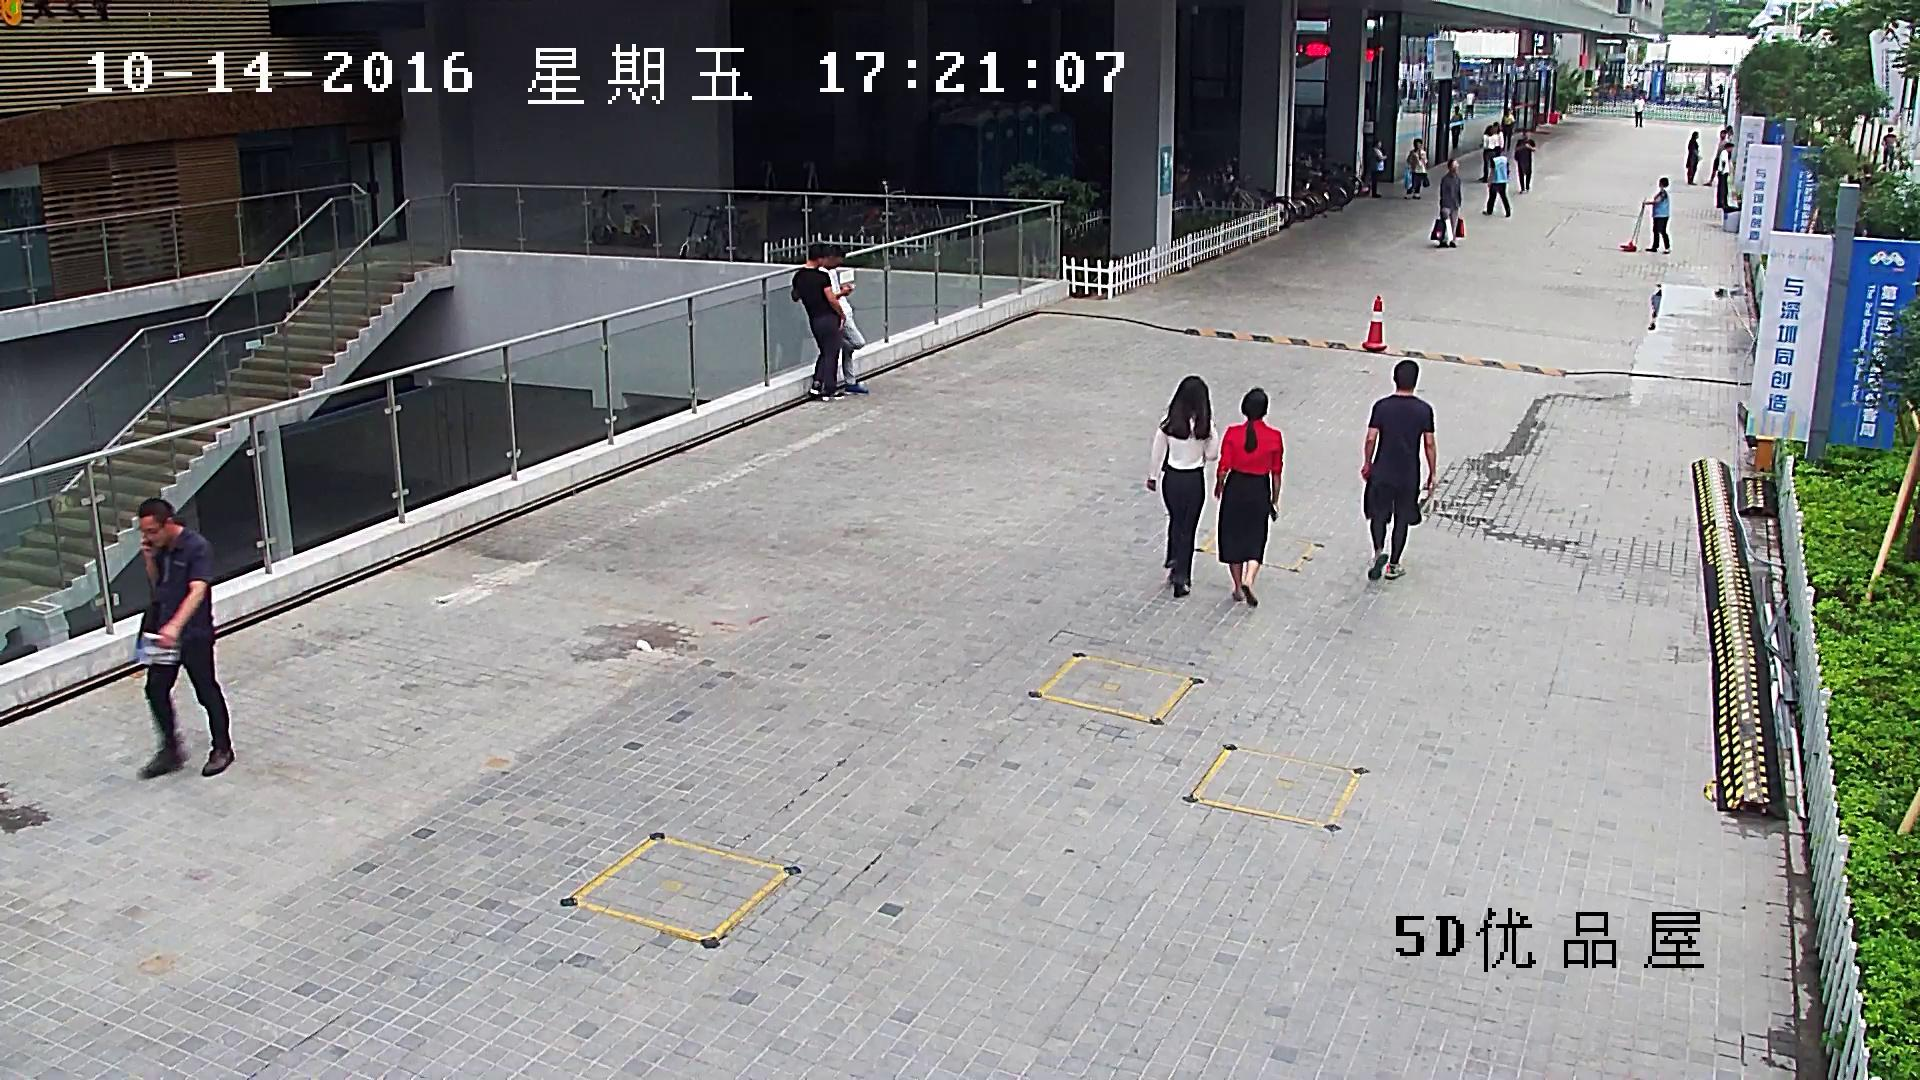person: (135, 497, 234, 779), (1361, 360, 1436, 580), (1147, 376, 1218, 598), (1214, 387, 1282, 606), (791, 243, 845, 400), (818, 244, 868, 393), (1619, 178, 1670, 254), (1430, 158, 1464, 247), (1642, 177, 1669, 254), (1482, 145, 1510, 216), (1403, 138, 1429, 199), (1703, 130, 1728, 186), (1514, 131, 1535, 193), (1364, 140, 1386, 198), (1716, 142, 1734, 208), (1477, 125, 1494, 182), (1685, 131, 1702, 184), (1881, 127, 1897, 172), (1501, 108, 1515, 151), (1449, 105, 1462, 151), (1492, 121, 1504, 155), (1463, 91, 1475, 119), (1634, 94, 1645, 127)
